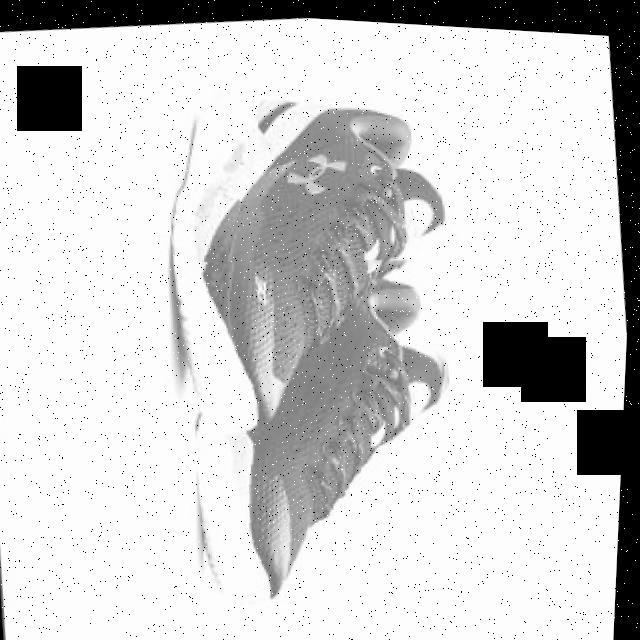shoe: (151, 56, 471, 445), (175, 232, 479, 617)
